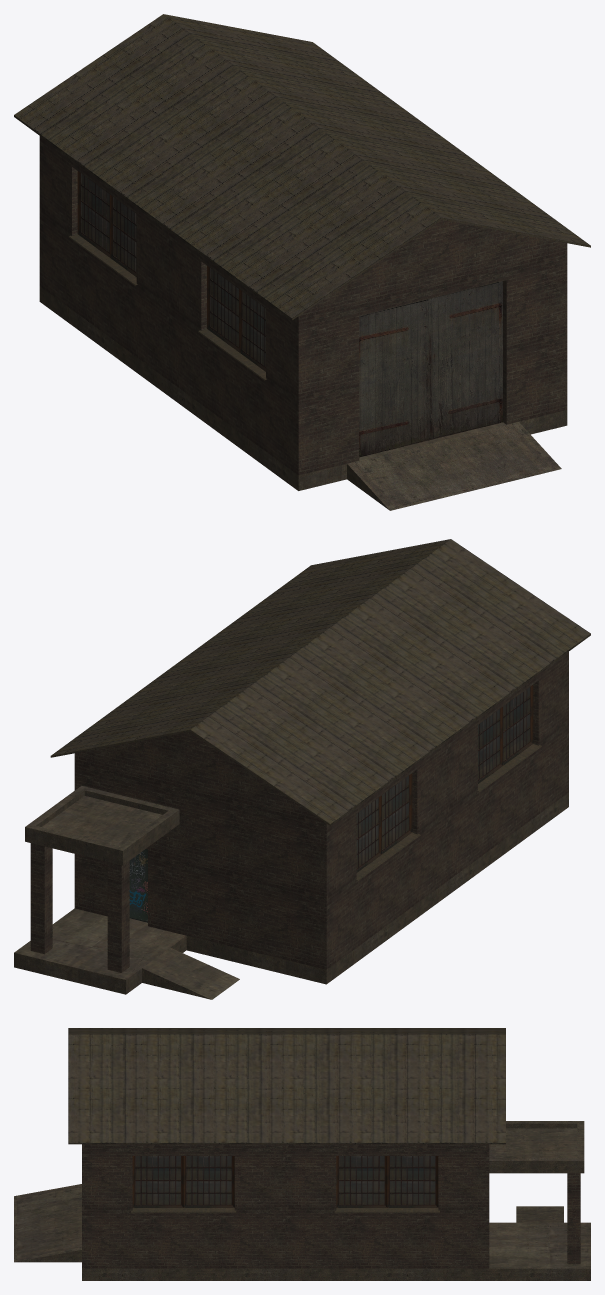
File: warehouse_mx_2.glb
3 views of the same model, one above another, from view 1: azimuth 30°, elevation 25°; view 2: azimuth 150°, elevation 25°; view 3: azimuth 270°, elevation 25° (orthographic). The views are drawn at different scales.
Visible parts, largest first — view 1: warehouse_mx_2, garage_door_hr_3_piece_2, garage_door_hr_3_piece_1; view 2: warehouse_mx_2, door_hr_9; view 3: warehouse_mx_2.
Part boxes in pixels (x1=…): warehouse_mx_2: x1=14, y1=14, x2=590, y2=510; garage_door_hr_3_piece_2: x1=429, y1=281, x2=502, y2=439; garage_door_hr_3_piece_1: x1=359, y1=299, x2=429, y2=457; warehouse_mx_2: x1=14, y1=539, x2=590, y2=999; door_hr_9: x1=129, y1=849, x2=147, y2=922; warehouse_mx_2: x1=14, y1=1028, x2=590, y2=1280.
Bounding box in the file's own units: 8 × 6.32 × 17.
10 materials, 10 textured.
